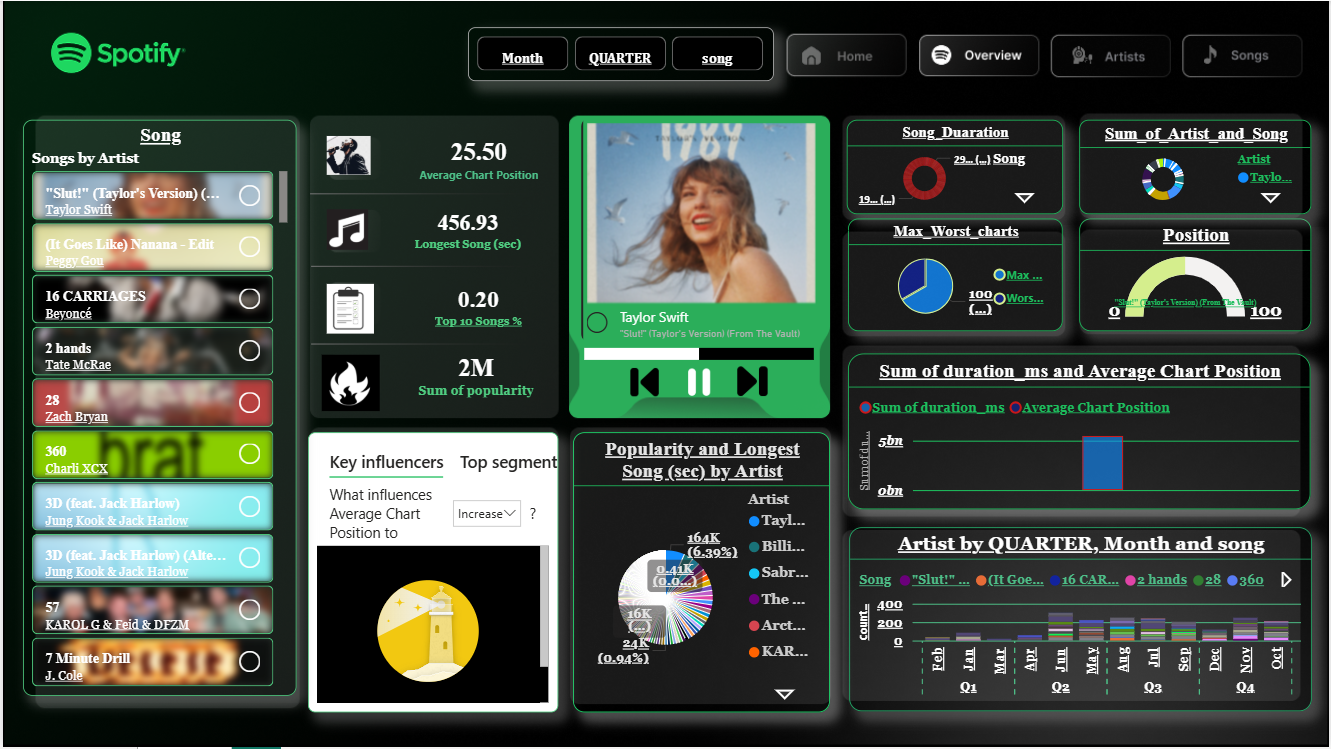

The page's visual inventory and layout, read from the dashboard file:
{"tool":"powerbi","page":{"name":"Page 1","canvas":[1280,720],"ordinal":0},"visuals":[{"type":"pieChart","title":" Popularity and Longest Song (sec) by Artist","fields":{"Category":["Top-50-world-Song.artist"],"Y":["Sum(Top-50-world-Song.popularity)","Top-50-world-Song.Longest Song (sec)"]},"box":[550.3,415.7,248.4,270.3],"z":0,"group":"g1"},{"type":"columnChart","title":"Artist by QUARTER, Month and song","fields":{"Category":["Top-50-world-Song.QUARTER","Top-50-world-Song.Month"],"Y":["CountNonNull(Top-50-world-Song.artist)"],"Series":["Top-50-world-Song.song"]},"box":[816.8,507.9,446.4,177.3],"z":1000,"group":"g1"},{"type":"advancedSlicerVisual","fields":{"Values":["Parameter.Parameter"]},"box":[448.8,25.3,295.6,51.9],"z":2000,"group":"g1"},{"type":"donutChart","title":"Song_Duaration","fields":{"Category":["Top-50-world-Song.song"],"Y":["Top-50-world-Song.Average Duration (sec)"]},"box":[814.3,114.3,208.6,91.4],"z":3000,"group":"g1"},{"type":"pieChart","title":"Max_Worst_charts","fields":{"Y":["Top-50-world-Song.Max Popularity","Top-50-world-Song.Worst Chart Position"]},"box":[815.7,210,207.1,108.6],"z":4000,"group":"g1"},{"type":"gauge","title":"Position","fields":{"Y":["Top-50-world-Song.Worst Chart Position"]},"box":[1038.6,210,224.3,108.6],"z":5000,"group":"g1"},{"type":"ribbonChart","fields":{"Y":["Sum(Top-50-world-Song.duration_ms)","Top-50-world-Song.Average Chart Position"]},"box":[815,340,446.7,150],"z":6000,"group":"g1"},{"type":"hundredPercentStackedBarChart","title":"Songs","fields":{"Y":["Sum(Top-50-world-Song.popularity)","Top-50-world-Song.Total Popularity"]},"box":[556.2,306.4,231.6,61.5],"z":7000,"group":"g1"},{"type":"donutChart","title":"Sum_of_Artist_and_Song","fields":{"Category":["Top-50-world-Song.artist"],"Series":["Top-50-world-Song.song"],"Y":["Sum(Top-50-world-Song.total_tracks)"]},"box":[1038.6,114.3,224.3,91.4],"z":8000,"group":"g1"},{"type":"keyDriversVisual","fields":{"Target":["Top-50-world-Song.Average Chart Position"],"ExplainBy":["Top-50-world-Song.Average Duration (sec)","Top-50-world-Song.date.Variation.Date Hierarchy.Year","Top-50-world-Song.date.Variation.Date Hierarchy.Quarter","Top-50-world-Song.date.Variation.Date Hierarchy.Month","Top-50-world-Song.date.Variation.Date Hierarchy.Day"]},"box":[294.4,416.2,241.3,270.2],"z":9000,"group":"g1"},{"type":"advancedSlicerVisual","title":"Songs","fields":{"Values":["Top-50-world-Song.song"]},"box":[521.2,95.3,305.2,252.1],"z":10000,"group":"g1"},{"type":"cardVisual","fields":{"Data":["Top-50-world-Song.Average Chart Position","select"]},"box":[381.2,114.6,156.8,66.4],"z":11000,"group":"g1"},{"type":"cardVisual","fields":{"Data":["Top-50-world-Song.Top 10 Songs %"]},"box":[396.9,255.7,124.3,80.8],"z":12000,"group":"g1"},{"type":"cardVisual","fields":{"Data":["Sum(Top-50-world-Song.popularity)"]},"box":[377.6,323.3,158,77.2],"z":13000,"group":"g1"},{"type":"cardVisual","fields":{"Data":["Top-50-world-Song.Longest Song (sec)"]},"box":[363.1,183.3,171.3,77.2],"z":14000,"group":"g1"},{"type":"image","box":[307.6,180.9,49.5,79.6],"z":15000,"group":"g1"},{"type":"image","box":[307.6,123,51.9,51.9],"z":16000,"group":"g1"},{"type":"image","box":[307.6,266.6,55.5,60.3],"z":17000,"group":"g1"},{"type":"image","box":[302.8,336.6,66.4,63.9],"z":18000,"group":"g1"},{"type":"image","box":[702.1,340.2,42.2,53.1],"z":19000,"group":"g1"},{"type":"image","box":[597.2,347.4,44.6,41],"z":20000,"group":"g1"},{"type":"shape","box":[538.1,107.3,206.3,189.4],"z":21000,"group":"g1"},{"type":"advancedSlicerVisual","title":"Song","fields":{"Values":["Top-50-world-Song.song"]},"box":[19.3,114.6,264.2,556.2],"z":22000,"group":"g1"},{"type":"image","box":[653.9,347.4,36.2,41],"z":23000,"group":"g1"},{"type":"group","id":"g1","title":"Group 1","box":[19.3,25.3,1243.8,661.1],"z":23001}]}

Visuals, with their boxes in screenshot pixels (x1, y1, x2, y2), scaled from the page's 1280x720 canvas onto the 1331x749 screenshot:
" Popularity and Longest Song (sec) by Artist" pieChart: [x1=572, y1=432, x2=831, y2=714]
"Artist by QUARTER, Month and song" columnChart: [x1=849, y1=528, x2=1314, y2=713]
advancedSlicerVisual - Parameter.Parameter: [x1=467, y1=26, x2=774, y2=80]
"Song_Duaration" donutChart: [x1=847, y1=119, x2=1064, y2=214]
"Max_Worst_charts" pieChart: [x1=848, y1=218, x2=1064, y2=331]
"Position" gauge: [x1=1080, y1=218, x2=1313, y2=331]
ribbonChart - Sum(Top-50-world-Song.duration_ms) x Top-50-world-Song.Average Chart Position: [x1=847, y1=354, x2=1312, y2=510]
"Songs" hundredPercentStackedBarChart: [x1=578, y1=319, x2=819, y2=383]
"Sum_of_Artist_and_Song" donutChart: [x1=1080, y1=119, x2=1313, y2=214]
keyDriversVisual - Top-50-world-Song.Average Chart Position x Top-50-world-Song.Average Duration (sec): [x1=306, y1=433, x2=557, y2=714]
"Songs" advancedSlicerVisual: [x1=542, y1=99, x2=859, y2=361]
cardVisual - Top-50-world-Song.Average Chart Position x select: [x1=396, y1=119, x2=559, y2=188]
cardVisual - Top-50-world-Song.Top 10 Songs %: [x1=413, y1=266, x2=542, y2=350]
cardVisual - Sum(Top-50-world-Song.popularity): [x1=393, y1=336, x2=557, y2=417]
cardVisual - Top-50-world-Song.Longest Song (sec): [x1=378, y1=191, x2=556, y2=271]
image: [x1=320, y1=188, x2=371, y2=271]
image: [x1=320, y1=128, x2=374, y2=182]
image: [x1=320, y1=277, x2=378, y2=340]
image: [x1=315, y1=350, x2=384, y2=417]
image: [x1=730, y1=354, x2=774, y2=409]
image: [x1=621, y1=361, x2=667, y2=404]
shape: [x1=560, y1=112, x2=774, y2=309]
"Song" advancedSlicerVisual: [x1=20, y1=119, x2=295, y2=698]
image: [x1=680, y1=361, x2=718, y2=404]
"Group 1" group: [x1=20, y1=26, x2=1313, y2=714]
